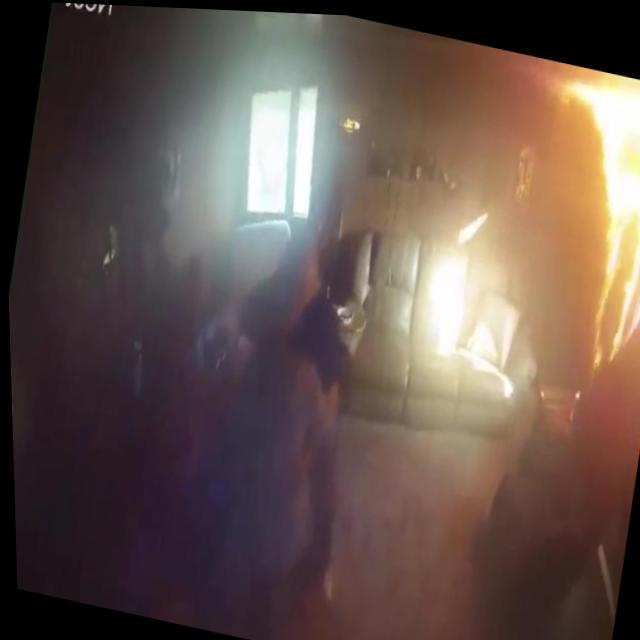fire: (511, 59, 640, 373)
